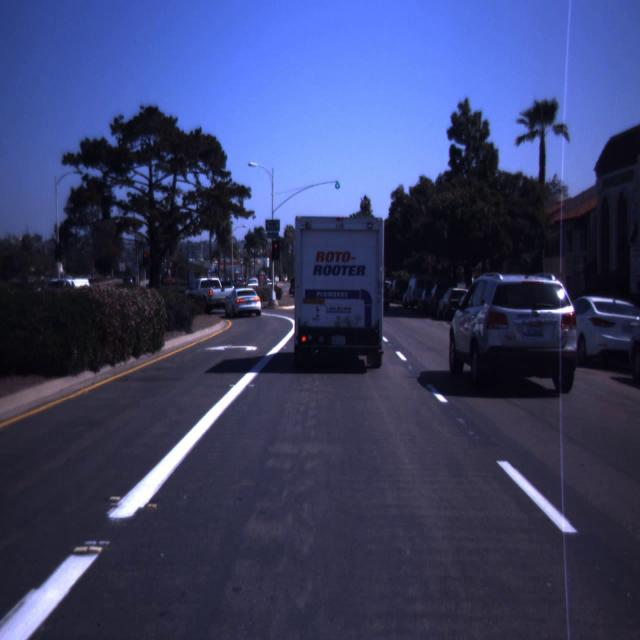go forward: (332, 160, 344, 190)
go forward traffic light: (332, 160, 344, 190)
stop left: (270, 240, 282, 264)
stop left traffic light: (270, 240, 282, 264)
